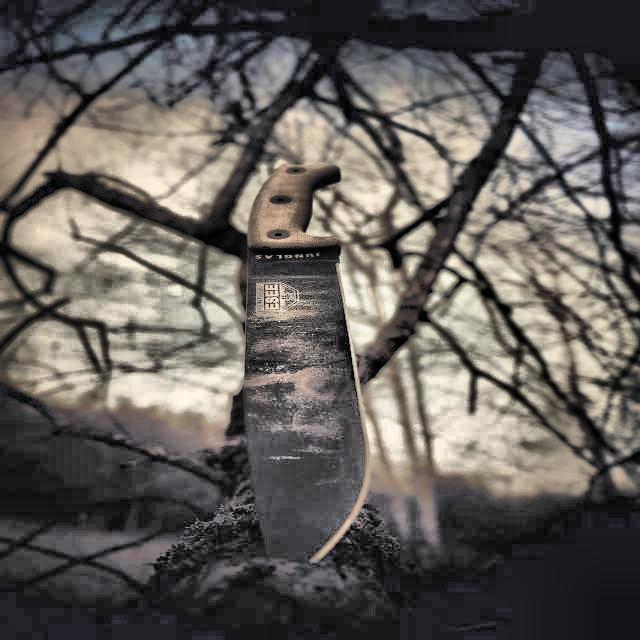knife: (218, 145, 374, 580)
